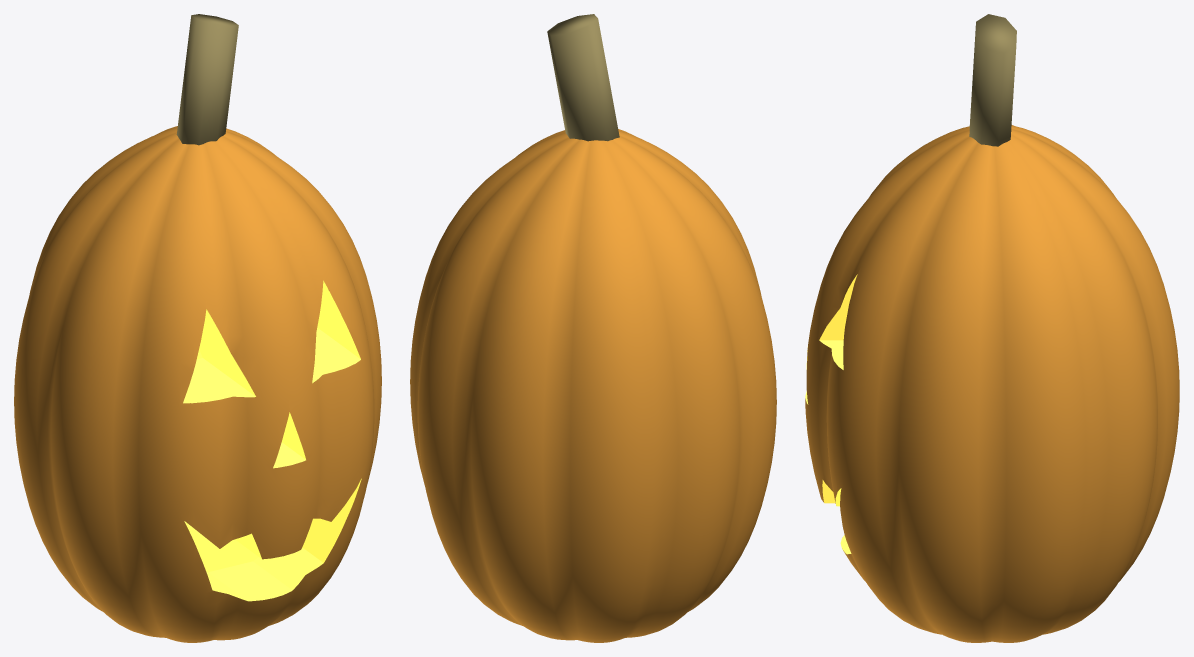
Rendered from jack_o_lantern.glb.
3 renders of one model, left to right at view 1: azimuth 30°, elevation 25°; view 2: azimuth 150°, elevation 25°; view 3: azimuth 270°, elevation 25°, orthographic.
Visible parts, largest first — view 1: Sphere.001, Cylinder.001; view 2: Sphere.001, Cylinder.001; view 3: Sphere.001, Cylinder.001.
Part boxes in pixels (box(x1,y1,x2,y2)): Sphere.001: box(14, 126, 381, 642); Cylinder.001: box(176, 14, 238, 145); Sphere.001: box(410, 129, 776, 642); Cylinder.001: box(547, 14, 619, 141); Sphere.001: box(805, 125, 1179, 642); Cylinder.001: box(969, 14, 1016, 146).
Size of the model in its own units: 5.61 by 10.38 by 5.8.
